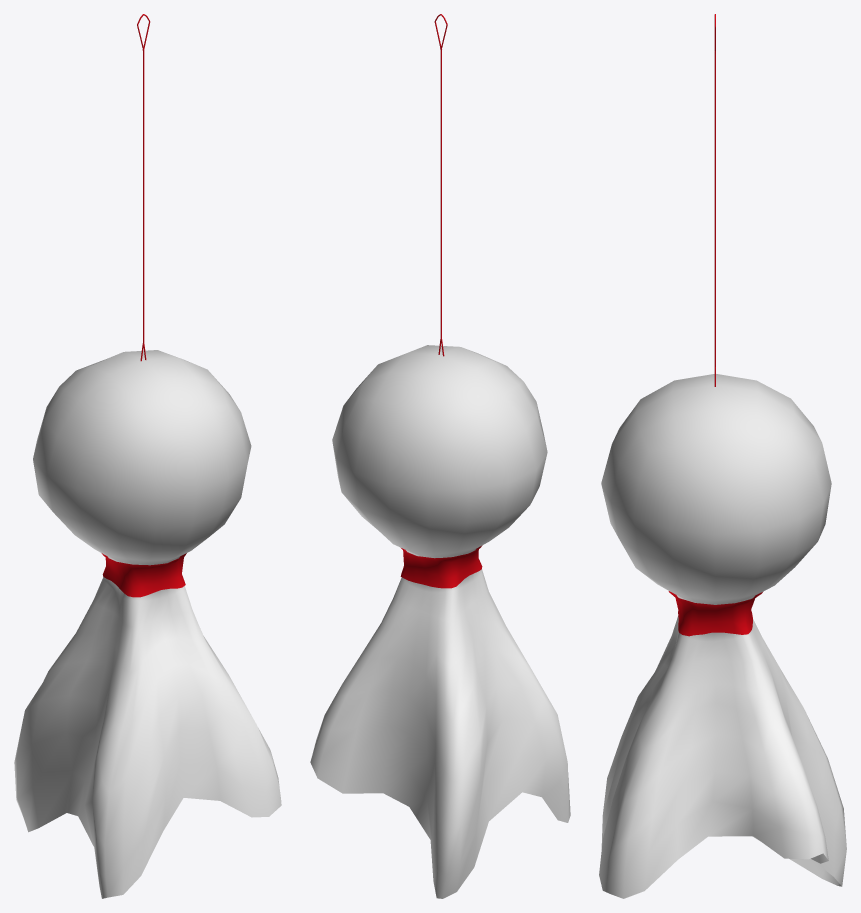
File: TERUBOZU.fbx
The picture shows the model from 3 angles, left to right: view 1: azimuth 30°, elevation 25°; view 2: azimuth 150°, elevation 25°; view 3: azimuth 270°, elevation 25°; orthographic projection. The views are drawn at different scales.
Parts seen in each view (by area): view 1: Cube; view 2: Cube; view 3: Cube.
Boxes of the visible parts, left/top/right/bottom form: Cube: left=14, top=14, right=281, bottom=898; Cube: left=310, top=14, right=570, bottom=898; Cube: left=599, top=14, right=846, bottom=898.
Size of the model in its own units: 314 by 1303 by 324.
